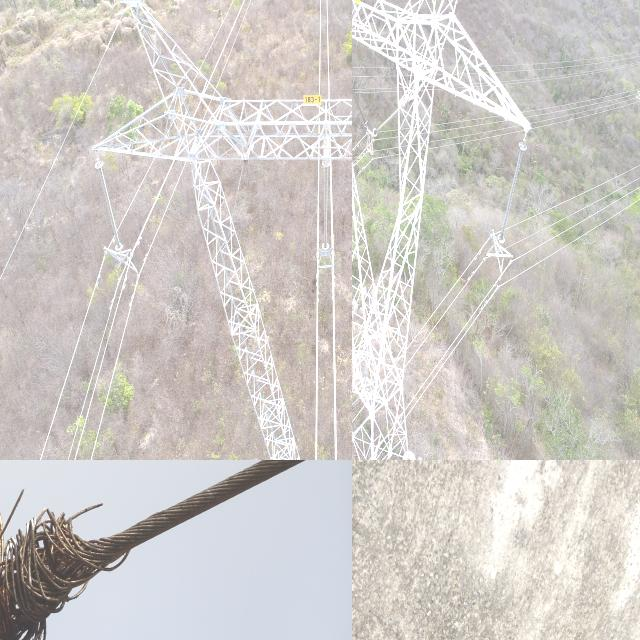杆塔: (94, 0, 352, 460), (352, 0, 535, 460)
正常绝缘子: (89, 154, 130, 265), (496, 138, 529, 245), (317, 120, 336, 258), (372, 103, 404, 137), (352, 82, 369, 129)
电缆破损: (0, 460, 138, 640)
